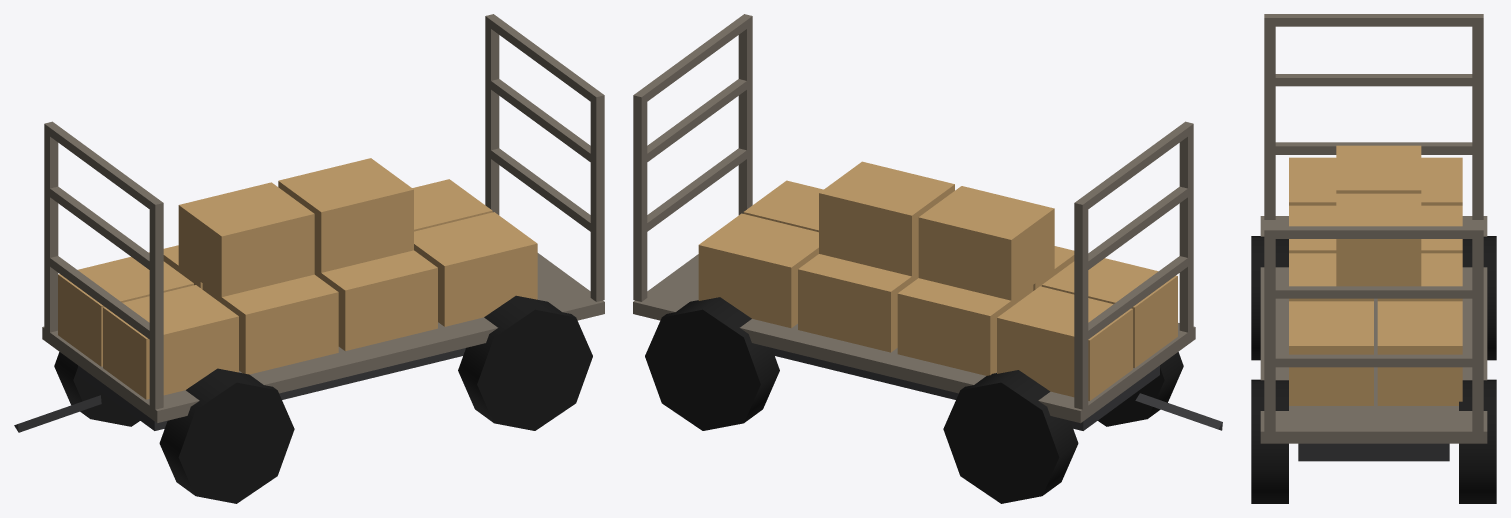
File: hay_wagon.glb
The picture shows the model from 3 angles, left to right: view 1: azimuth 30°, elevation 25°; view 2: azimuth 150°, elevation 25°; view 3: azimuth 270°, elevation 25°; orthographic projection.
Parts seen in each view (by area): view 1: hay_wagon; view 2: hay_wagon; view 3: hay_wagon.
Part boxes in pixels (bbox=[...]): hay_wagon: bbox=[14, 14, 604, 503]; hay_wagon: bbox=[633, 14, 1222, 503]; hay_wagon: bbox=[1251, 14, 1496, 503].
Size of the model in its own units: 3.21 by 1.8 by 1.3.
1 material, 1 textured.
